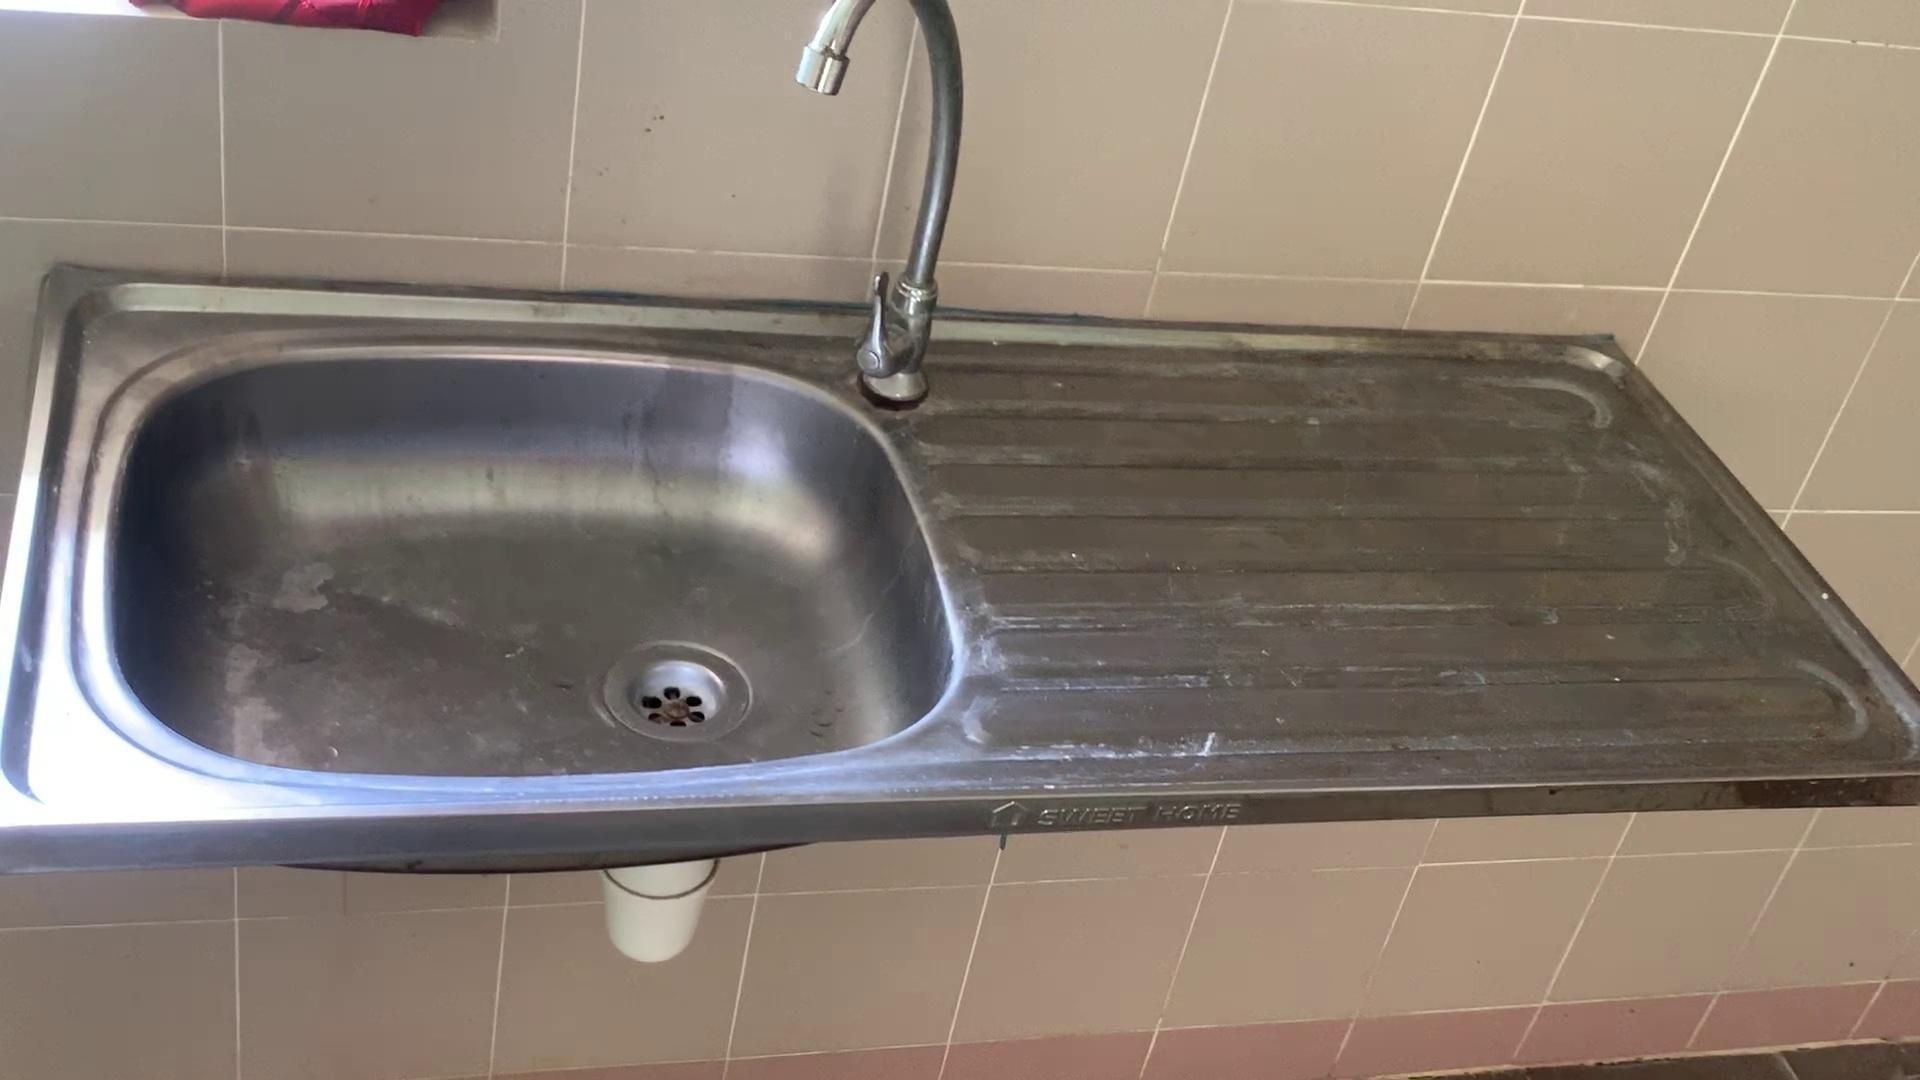Lavaplatos: (0, 8, 1217, 920)
